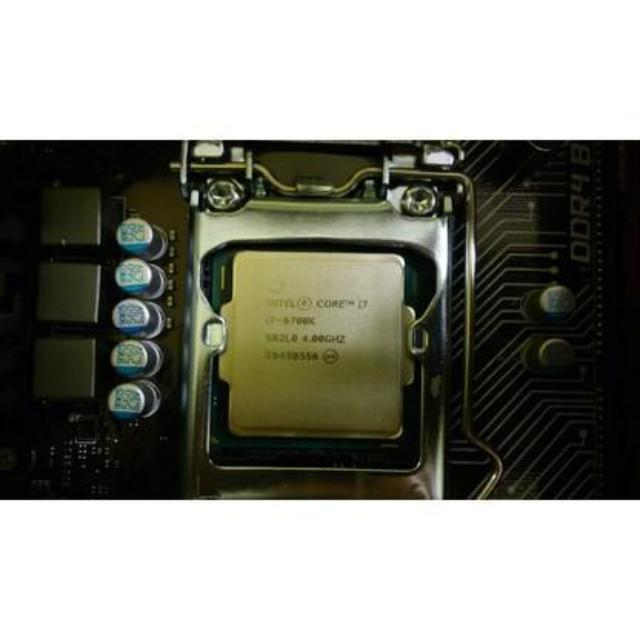CPU: (212, 244, 412, 453)
